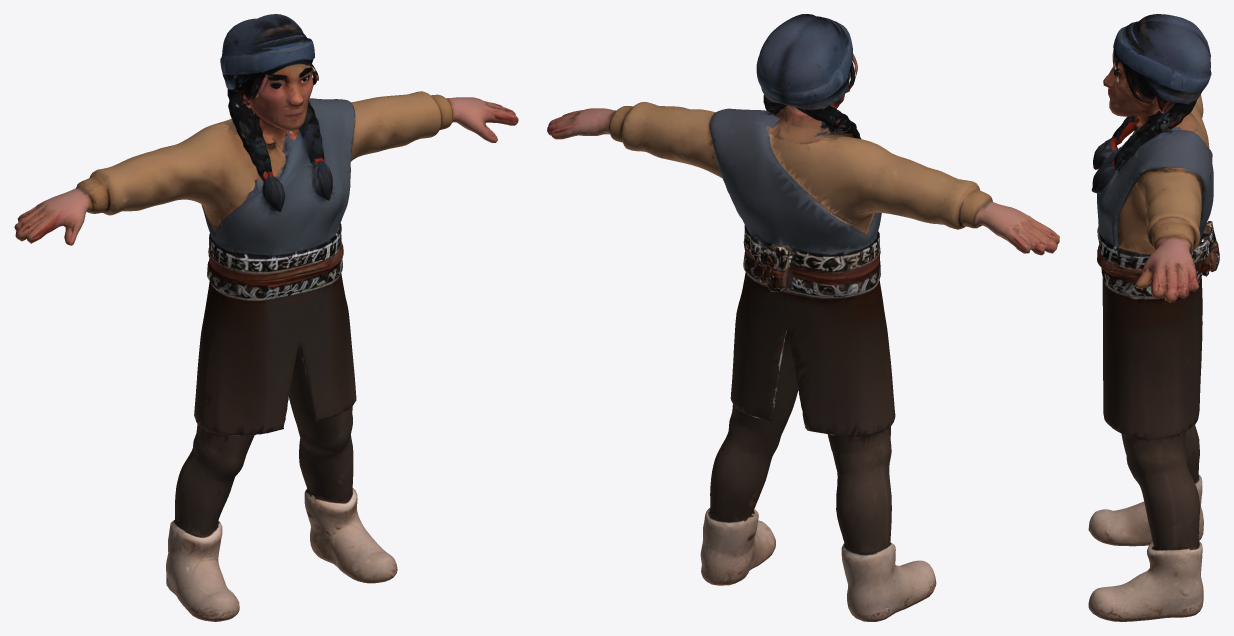
The model's file is poblador_2.glb.
The picture shows the model from 3 angles, left to right: view 1: azimuth 30°, elevation 25°; view 2: azimuth 150°, elevation 25°; view 3: azimuth 270°, elevation 25°; orthographic projection. The views are drawn at different scales.
Parts seen in each view (by area): view 1: poblador_2; view 2: poblador_2; view 3: poblador_2.
Part boxes in pixels (x1,y1,x2,y2): poblador_2: (14, 14, 518, 621); poblador_2: (547, 14, 1059, 621); poblador_2: (1088, 14, 1219, 621).
Size of the model in its own units: 1.46 by 1.57 by 0.3347.
Materials: 1 (1 with a texture image).
